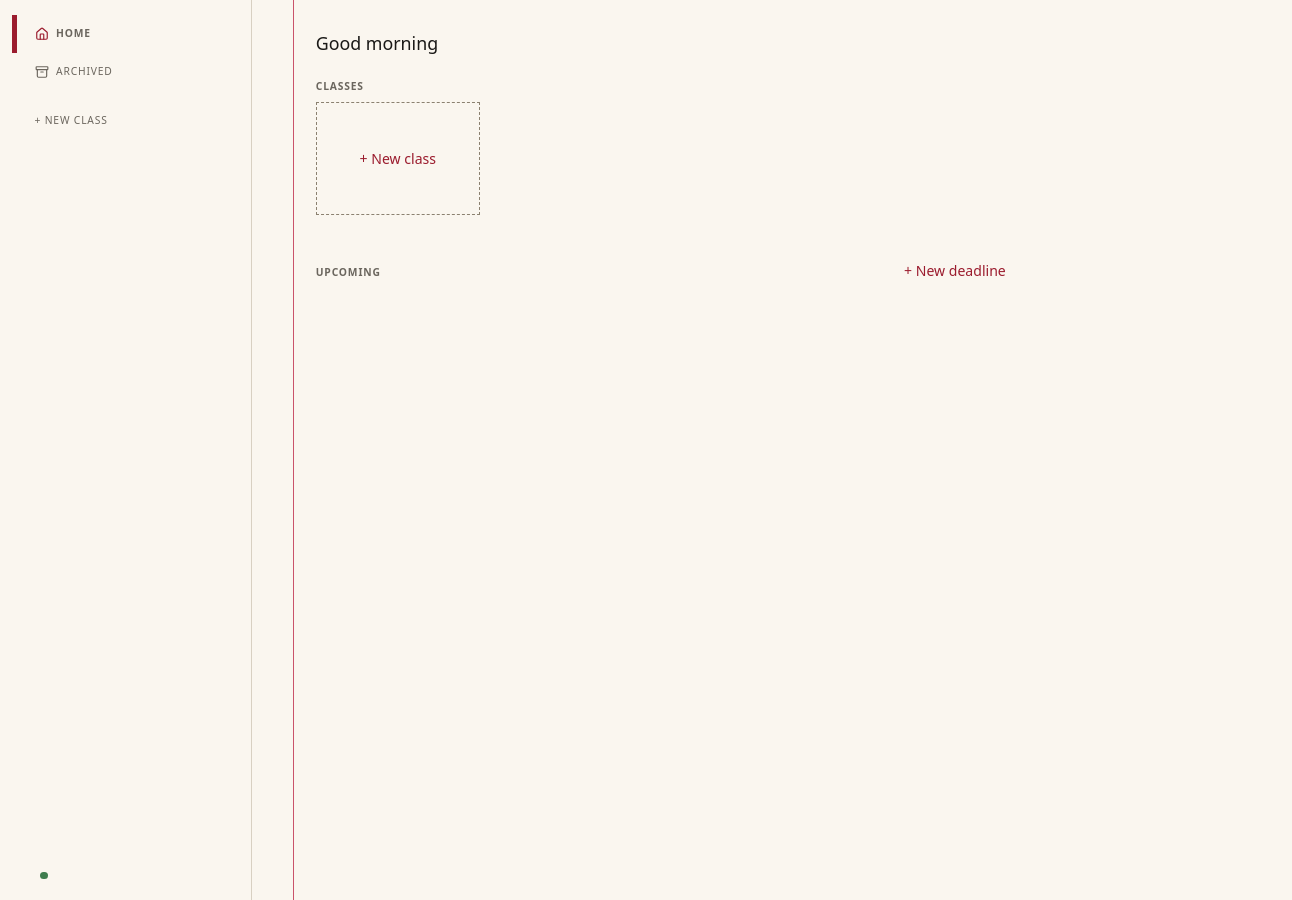
Test: App class rail › falls back to Home when the remembered class was archived
The image size is (1292, 900).
// Archived is not deleted: the class stays reachable from the rail.
Step 1. Click the button "Archived" → (132, 72), box top-left (12, 53), bottom-right (251, 91)
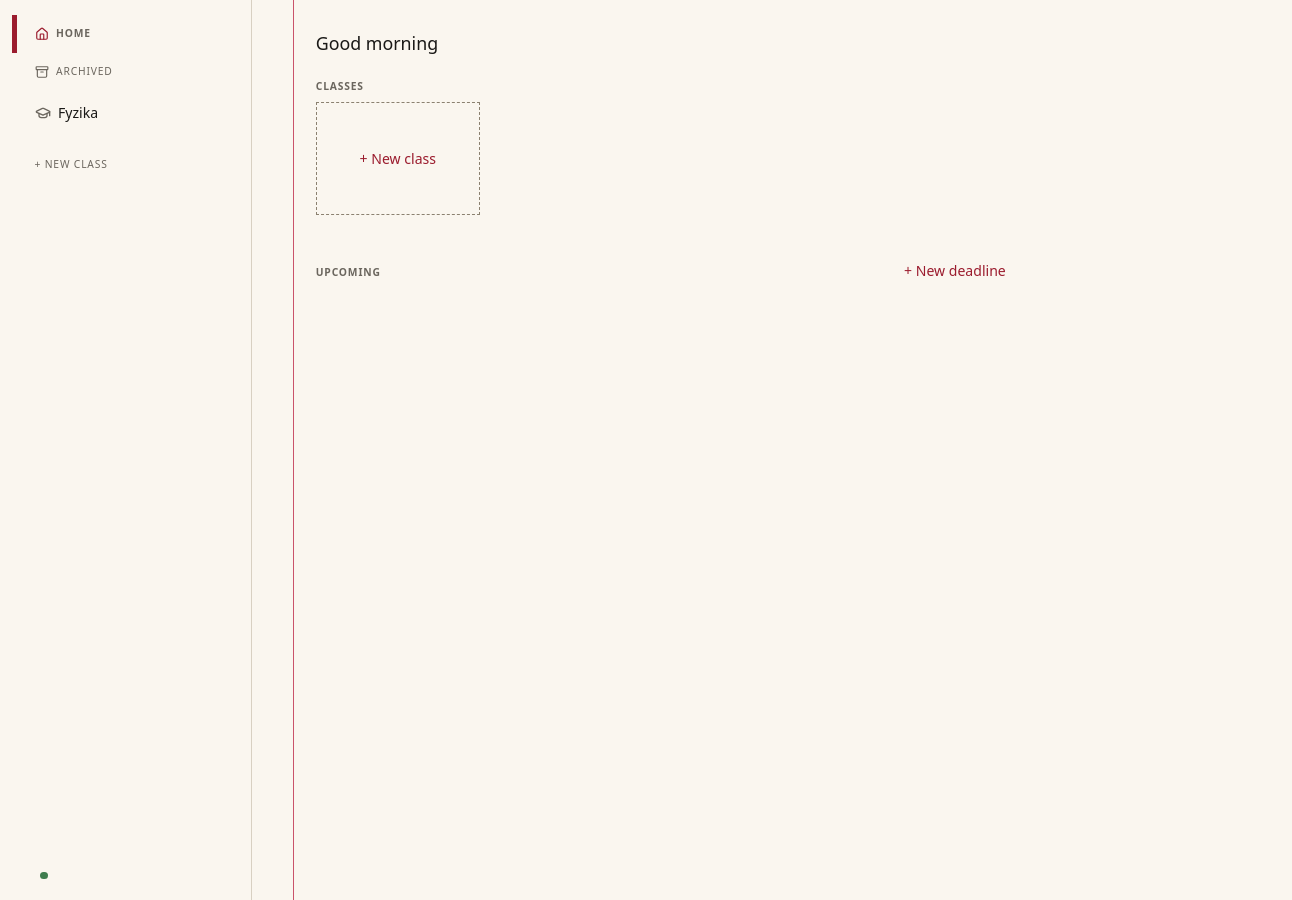
Step 2. Click the button "Fyzika" → (132, 113), box top-left (12, 91), bottom-right (251, 134)
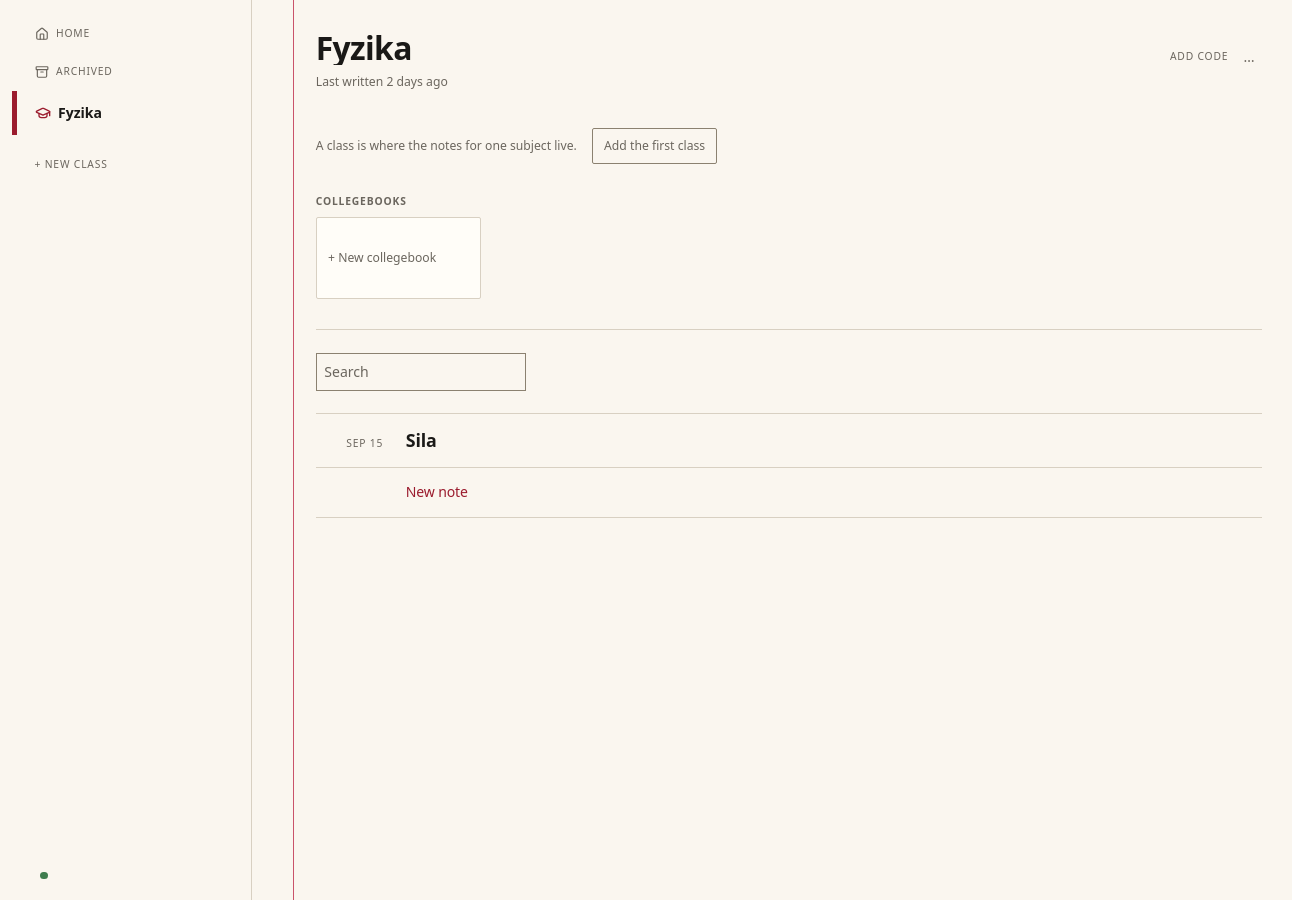
Check: the heading "Fyzika" is shown, box top-left (316, 30), bottom-right (412, 65)
Check: the button "Sila Sep 15" is shown, box top-left (316, 414), bottom-right (1262, 467)
